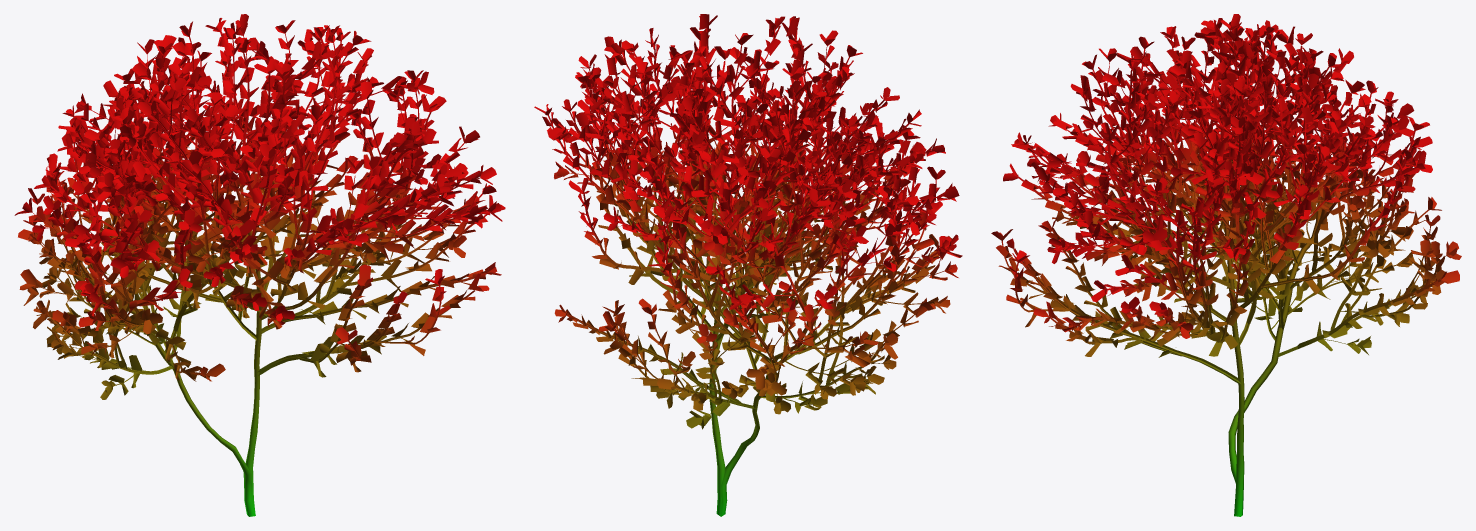
File: Var2_LOD3.fbx
3 views of the same model, side by side, from view 1: azimuth 30°, elevation 25°; view 2: azimuth 150°, elevation 25°; view 3: azimuth 270°, elevation 25° (orthographic).
Parts seen in each view (by area): view 1: _vxfe_Var2_LOD3; view 2: _vxfe_Var2_LOD3; view 3: _vxfe_Var2_LOD3.
Part boxes in pixels (x1,y1,x2,y2): _vxfe_Var2_LOD3: (14,14,505,516); _vxfe_Var2_LOD3: (534,14,962,516); _vxfe_Var2_LOD3: (991,14,1461,516).
Size of the model in its own units: 69.95 by 78.22 by 70.39.
